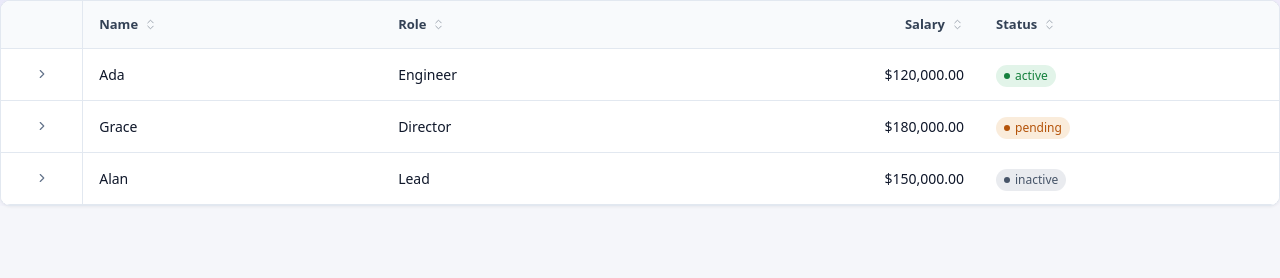
Scenario: <SmartDataGrid> › renders expanded content
Click the button named "Expand row" next to "Ada". click: x=42, y=74
box: [31, 63, 53, 85]
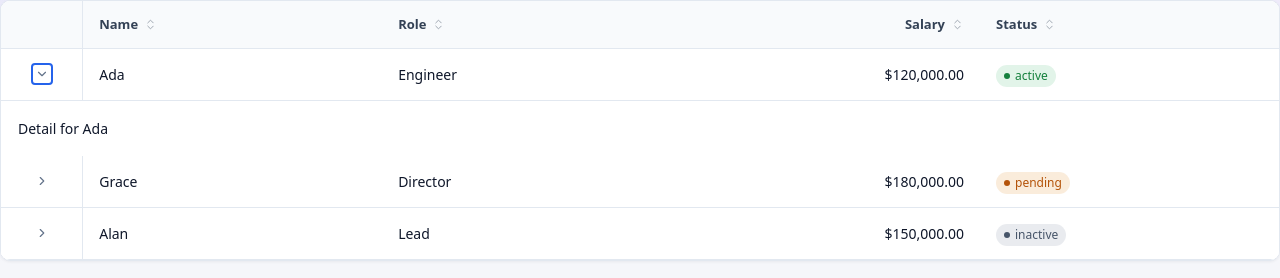
Result: the text with test id "detail" reads "Detail for Ada" at [18, 119, 108, 138]
